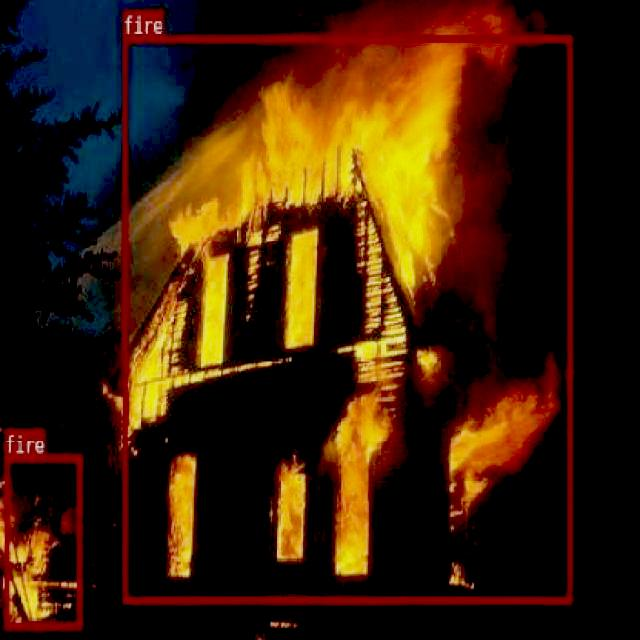fire: (122, 34, 570, 603), (4, 454, 82, 628)
